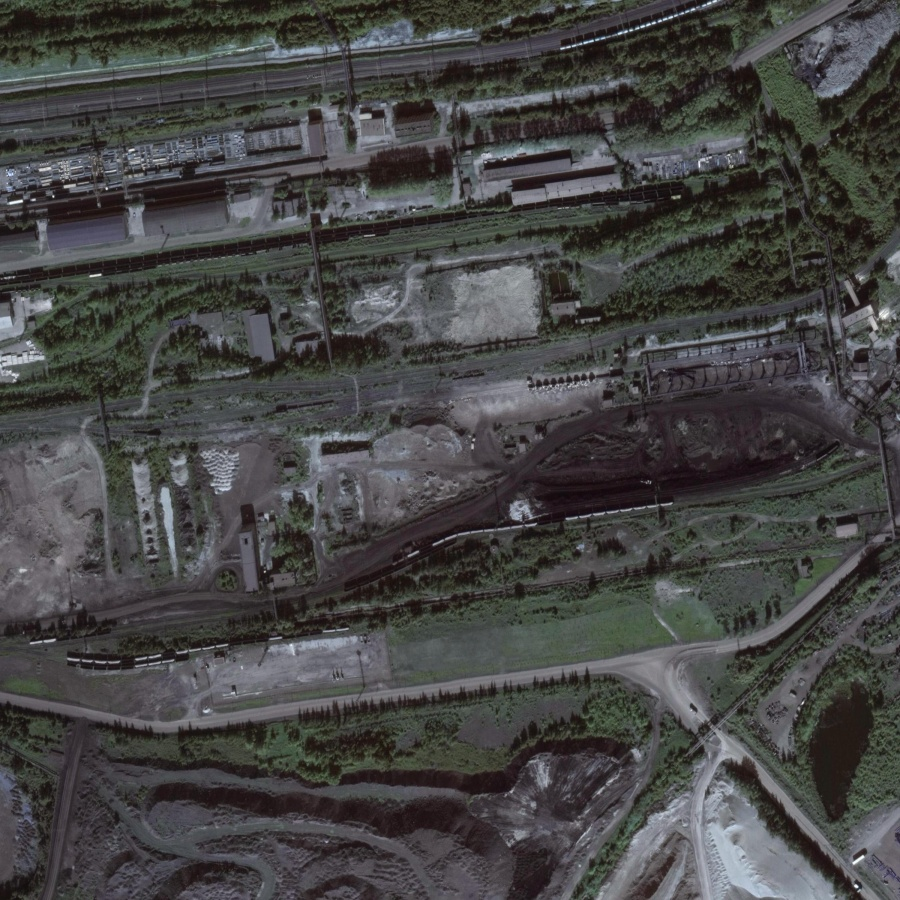PowerPlant: (408, 368, 848, 532)
